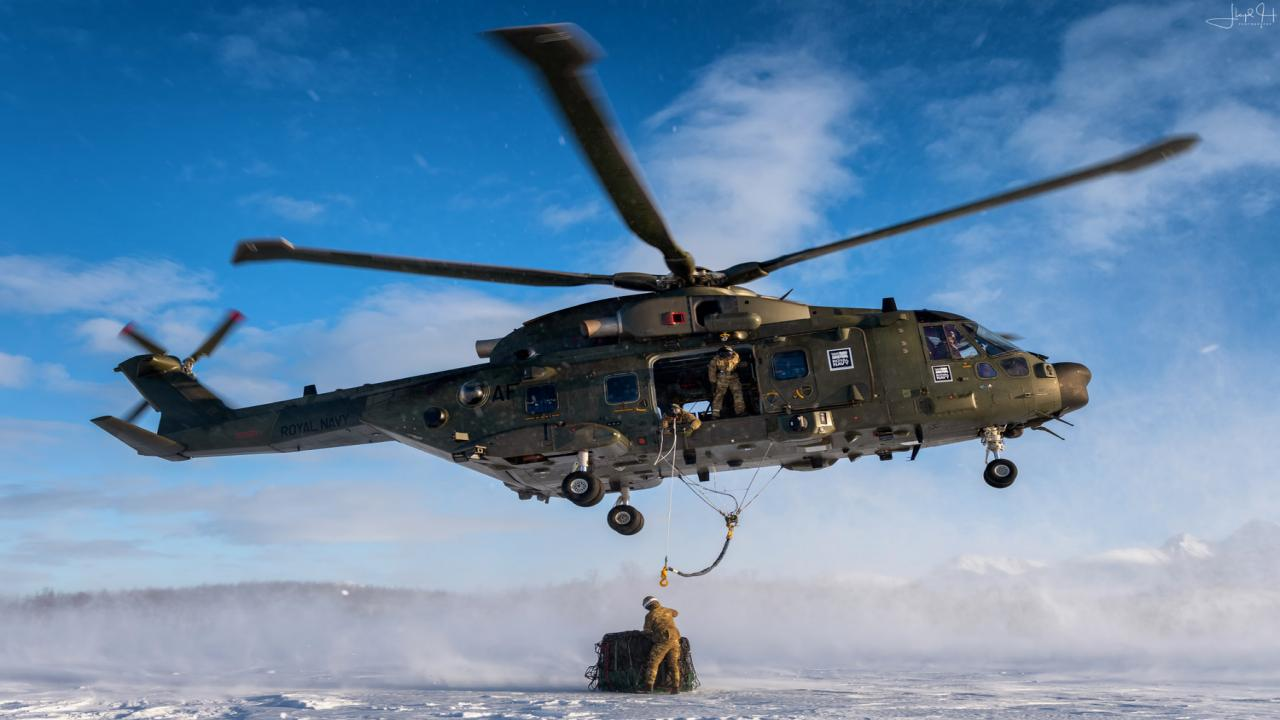Helicopter: (66, 6, 1217, 549)
